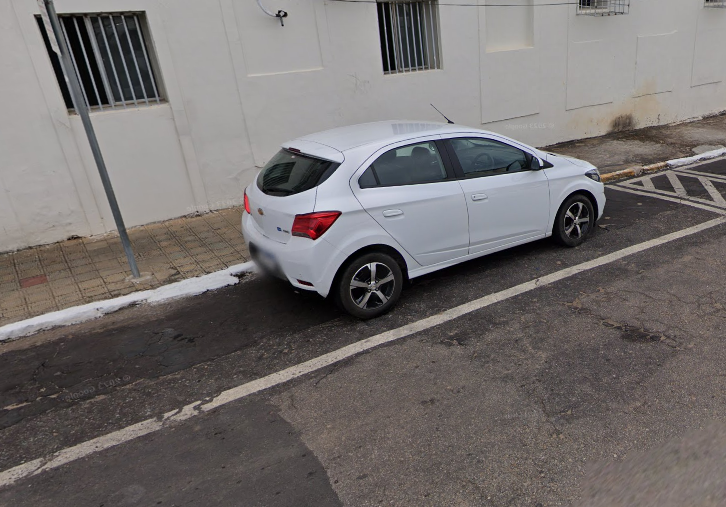car: (227, 97, 611, 324)
